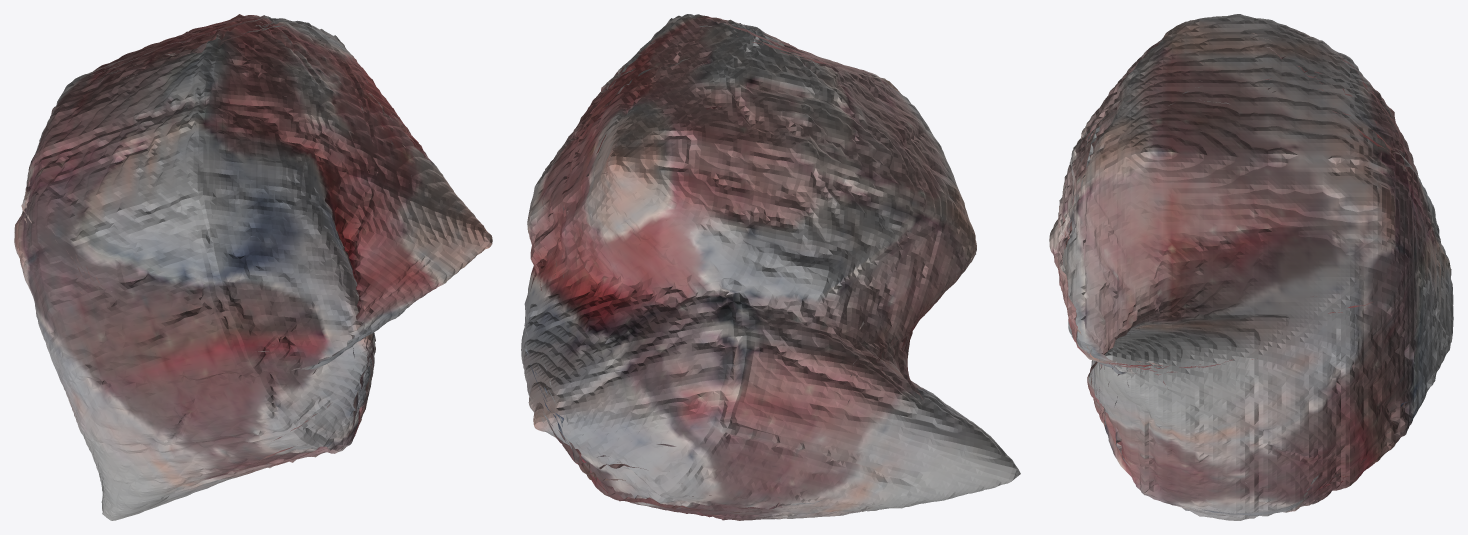
The model's file is pulse.glb.
3 renders of one model, left to right at view 1: azimuth 30°, elevation 25°; view 2: azimuth 150°, elevation 25°; view 3: azimuth 270°, elevation 25°, orthographic. The views are drawn at different scales.
Visible parts, largest first — view 1: world; view 2: world; view 3: world.
Part boxes in pixels (x1,y1,x2,y2): world: (14, 14, 492, 520); world: (521, 14, 1020, 520); world: (1049, 14, 1453, 520).
Size of the model in its own units: 0.9098 by 0.9506 by 0.8062.
